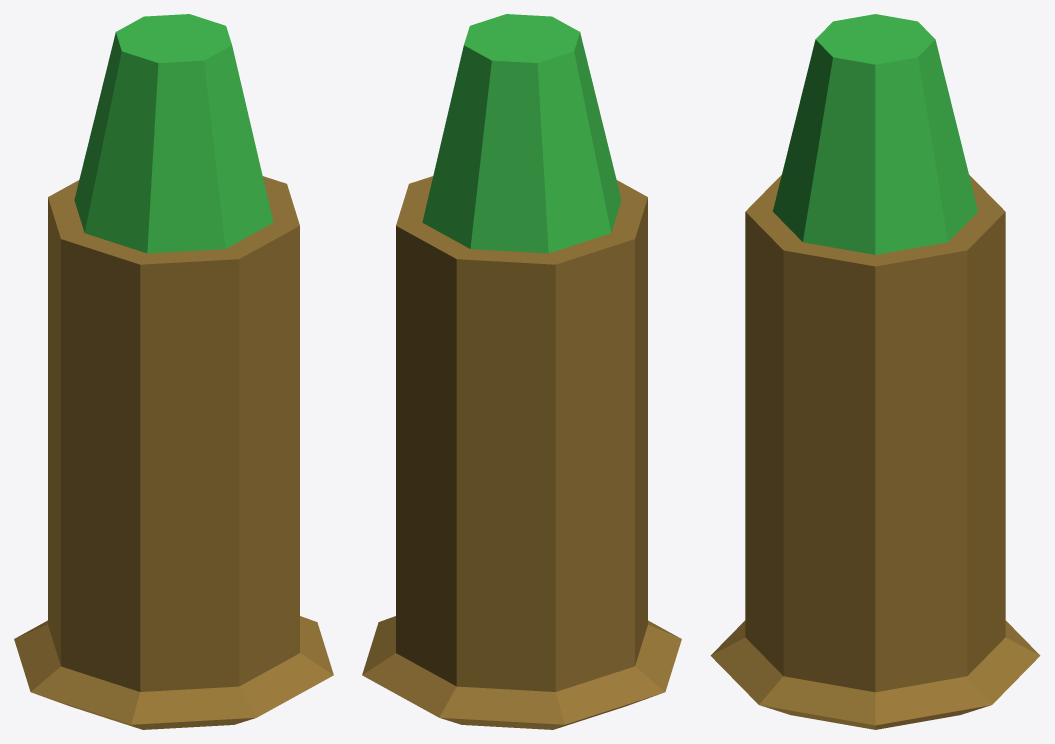
File: cartridge-corrosive.lod.glb
The picture shows the model from 3 angles, left to right: view 1: azimuth 30°, elevation 25°; view 2: azimuth 150°, elevation 25°; view 3: azimuth 270°, elevation 25°; orthographic projection.
Visible parts, largest first — view 1: m; view 2: m; view 3: m.
Boxes of the visible parts, x1,y1,x2,y2 form: m: (14,14,333,729); m: (362,14,681,729); m: (710,14,1040,729).
Size of the model in its own units: 0.028 by 0.06 by 0.028.
